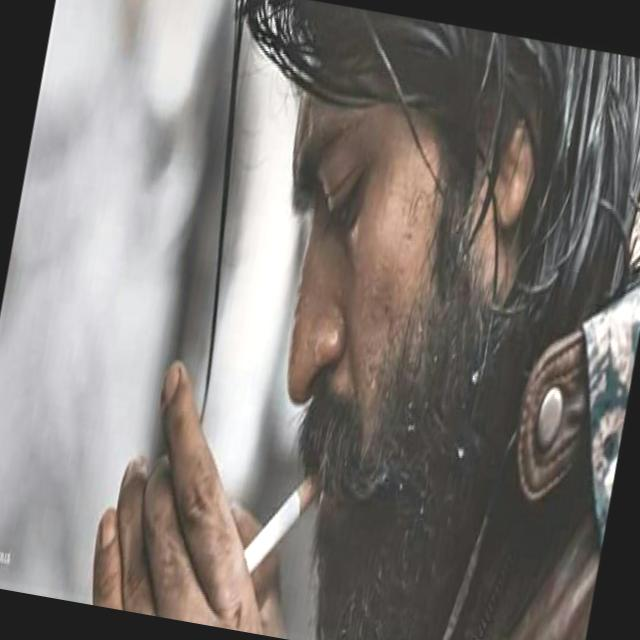cigarette: (238, 459, 321, 598)
